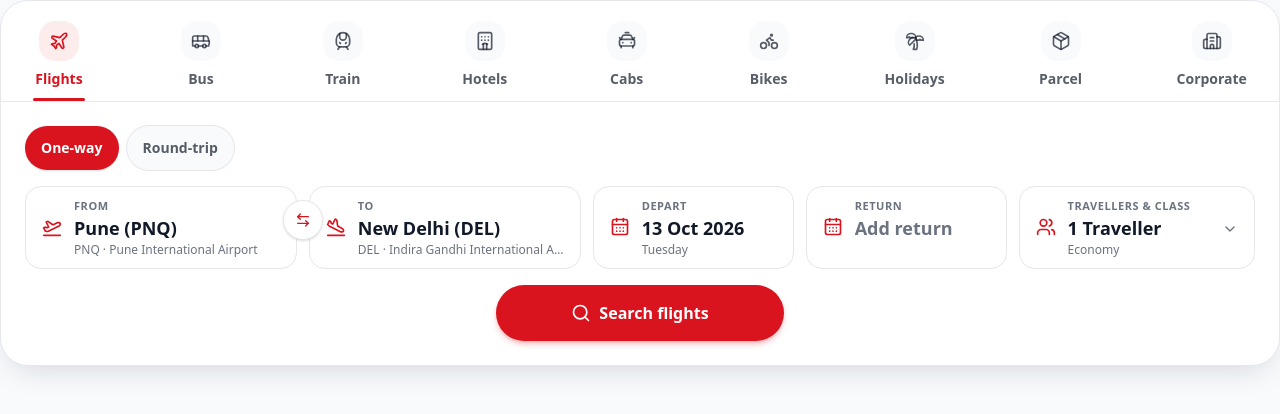
Scenario: SearchWidget — flights › shows validation errors instead of searching
Type "pnq" into the dropdown labelled "To" at (461, 228), box [358,214,564,242]
Then press Enter
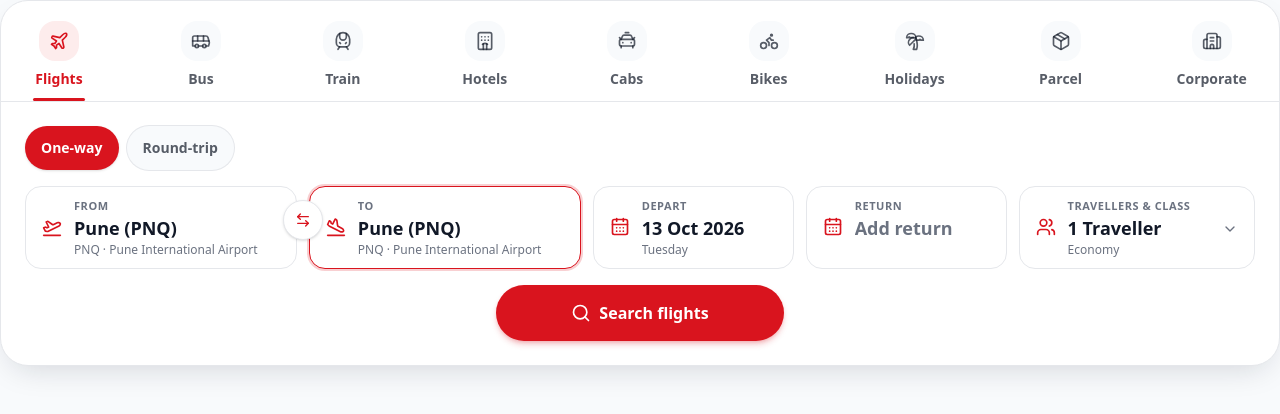
Click the button "Search flights" at (640, 313), box [496,285,784,341]
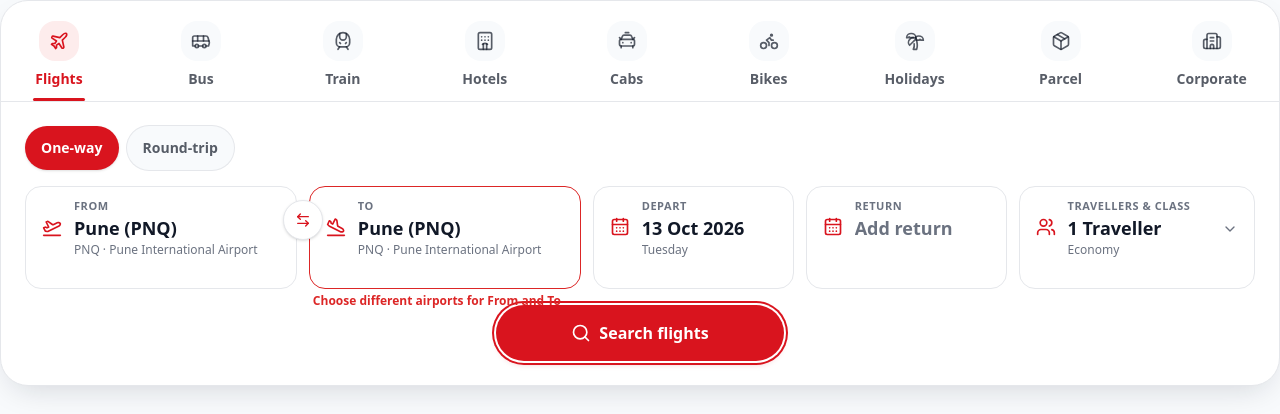
Check: the text "Choose different airports for From and To" is shown, box [309,293,581,309]
